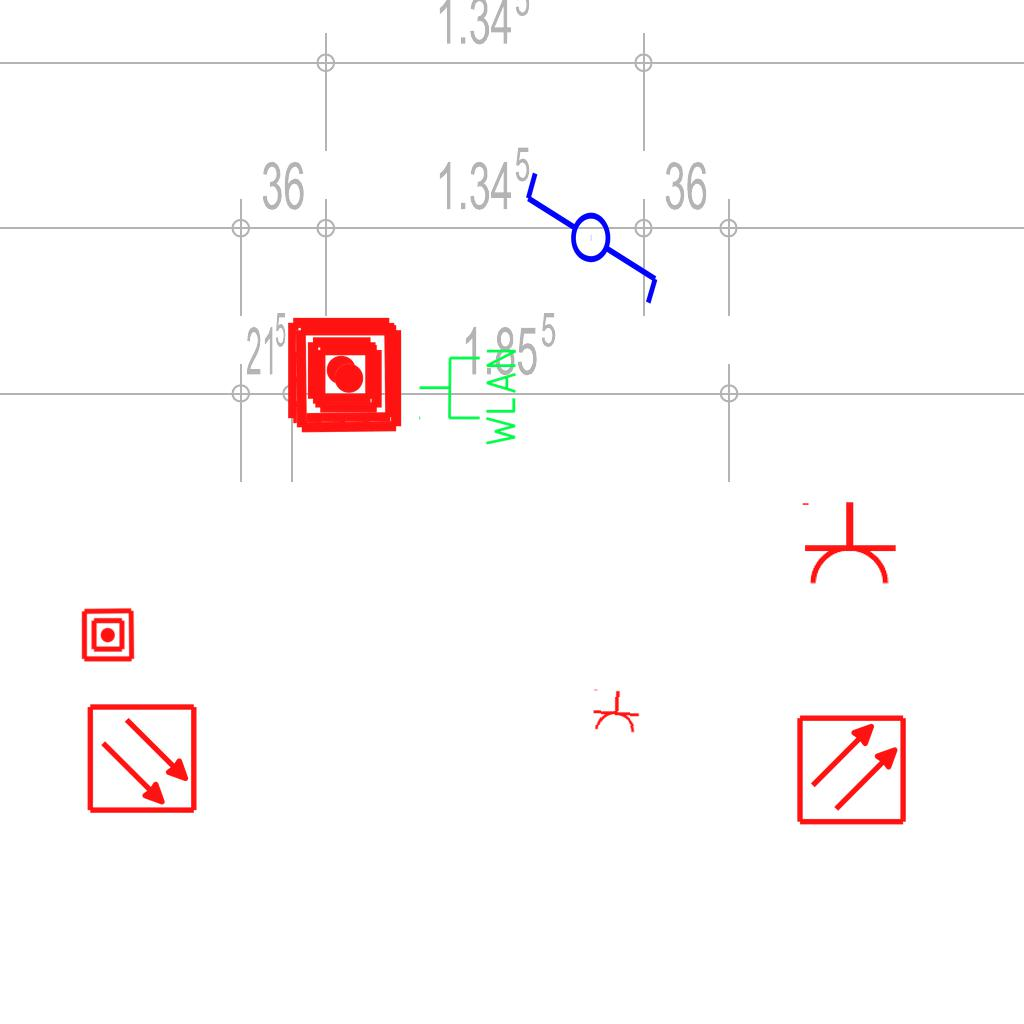NAM-Nichtautomatischer_Melder: (285, 314, 398, 427), (292, 322, 405, 435), (80, 607, 136, 663)
RMO_Rauchmelder_optischer: (795, 713, 908, 826), (86, 702, 199, 815)
Schukosteckdose_einfach: (798, 500, 898, 587), (589, 687, 642, 735)
WLAN: (416, 345, 520, 450)
Wechselschalter: (521, 151, 665, 308)
